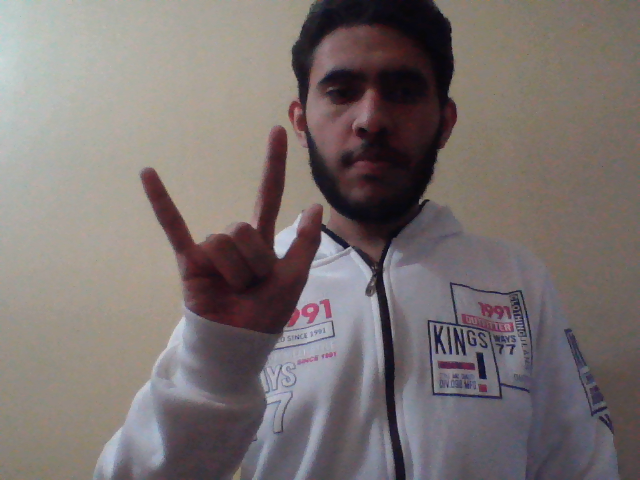iloveyou: (137, 122, 325, 342)
